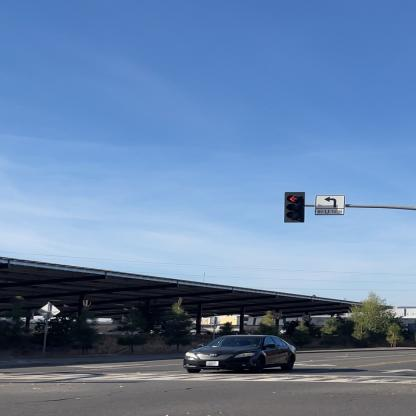left-red: (282, 191, 307, 223)
